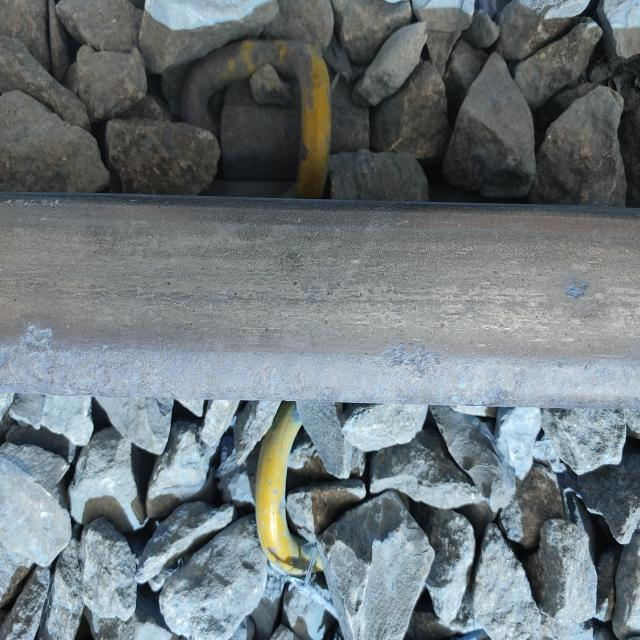Good Fasteners: (180, 39, 369, 198), (255, 401, 319, 584)
